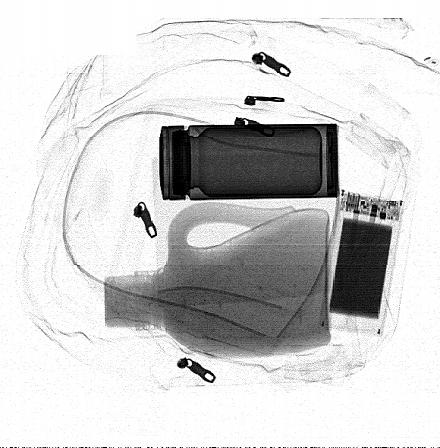Powerbank: (318, 189, 406, 337)
